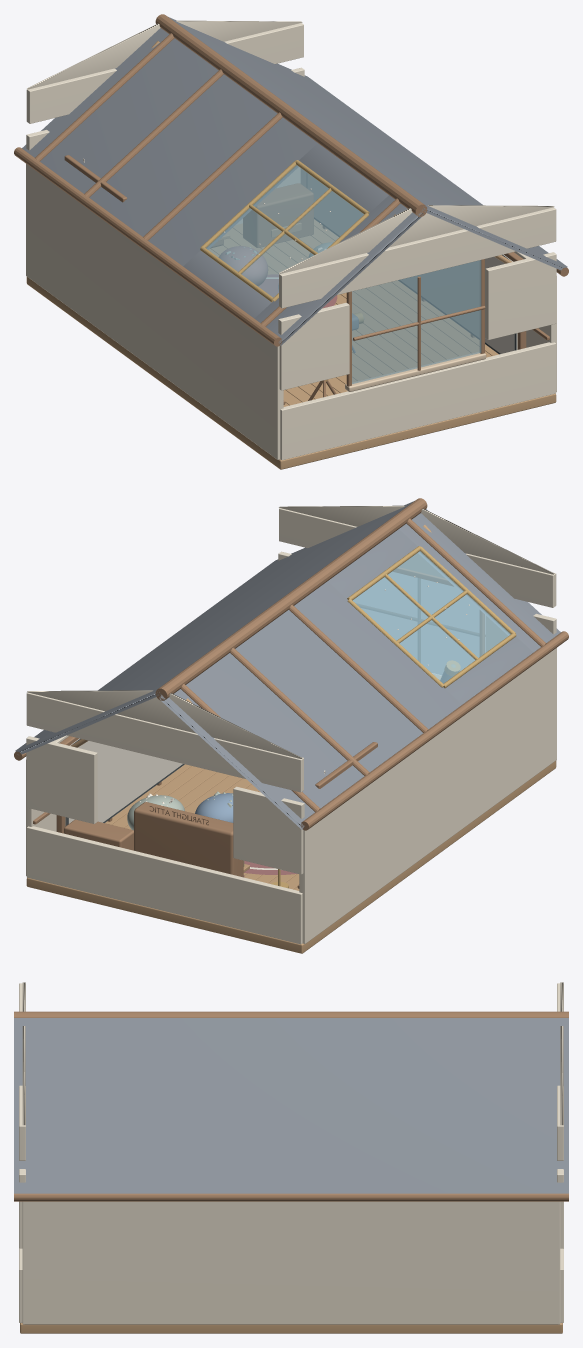
File: starlight_attic.glb
The picture shows the model from 3 angles, top to bottom: view 1: azimuth 30°, elevation 25°; view 2: azimuth 150°, elevation 25°; view 3: azimuth 270°, elevation 25°; orthographic projection. The views are drawn at different scales.
Parts seen in each view (by area): view 1: ROOF · left slate rear, WALL · plaster long side -1, WALL · end low plinth -6.64, WINDOW · rear glazed opening, ROOF · right slate plane, SKYLIGHT · transparent panes, WALL · end top lintel -6.64, CINEMA · lit fabric panel, WALL · end opening pier (-6.64, 3.15), WALL · end opening pier (-6.64, -3.15), STRUCTURE · floor subdeck, ROOF · ancient ridge beam (+23 smaller); view 2: ROOF · left slate rear, WALL · plaster long side -1, WALL · end low plinth 6.64, ROOF · right slate plane, SKYLIGHT · transparent panes, WALL · end top lintel 6.64, WINDOW · rear glazed opening, BOOKCASE · carved frame, WALL · end opening pier (6.64, 3.15), WALL · end opening pier (6.64, -3.15), STRUCTURE · floor subdeck, WALL · end top lintel -6.64 (+17 smaller); view 3: ROOF · right slate plane, WALL · plaster long side 1, ROOF · eave beam 1, STRUCTURE · floor subdeck, ROOF · ancient ridge beam, WALL · end top lintel -6.64, WALL · end top lintel 6.64, FLOOR · individual oak plank 21, GABLE · end triangular infill 6.64, GABLE · end triangular infill -6.64.
Part boxes in pixels (box(x1,y1,x2,y2)): ROOF · left slate rear: box(22, 28, 317, 266); WALL · plaster long side -1: box(26, 164, 283, 459); WALL · end low plinth -6.64: box(280, 342, 556, 460); WINDOW · rear glazed opening: box(352, 260, 481, 383); ROOF · right slate plane: box(168, 17, 567, 270); SKYLIGHT · transparent panes: box(206, 165, 363, 297); WALL · end top lintel -6.64: box(279, 207, 556, 308); CINEMA · lit fabric panel: box(307, 173, 514, 353); WALL · end opening pier (-6.64, 3.15): box(485, 252, 556, 339); WALL · end opening pier (-6.64, -3.15): box(278, 302, 349, 390); STRUCTURE · floor subdeck: box(26, 276, 556, 469); ROOF · ancient ridge beam: box(155, 14, 427, 216); ROOF · left slate rear: box(159, 581, 462, 829); WALL · plaster long side -1: box(299, 648, 556, 943); WALL · end low plinth 6.64: box(26, 826, 302, 944); ROOF · right slate plane: box(15, 501, 414, 755); SKYLIGHT · transparent panes: box(352, 551, 510, 683); WALL · end top lintel 6.64: box(26, 692, 303, 792); WINDOW · rear glazed opening: box(353, 572, 478, 674); BOOKCASE · carved frame: box(134, 802, 243, 877); WALL · end opening pier (6.64, 3.15): box(26, 736, 97, 823); WALL · end opening pier (6.64, -3.15): box(233, 786, 304, 874); STRUCTURE · floor subdeck: box(26, 760, 556, 953); WALL · end top lintel -6.64: box(279, 508, 556, 607); ROOF · right slate plane: box(14, 1018, 568, 1193); WALL · plaster long side 1: box(22, 1201, 560, 1324); ROOF · eave beam 1: box(14, 1193, 568, 1201); STRUCTURE · floor subdeck: box(20, 1323, 562, 1333); ROOF · ancient ridge beam: box(14, 1011, 568, 1017); WALL · end top lintel -6.64: box(19, 983, 25, 1160); WALL · end top lintel 6.64: box(557, 983, 563, 1160); FLOOR · individual oak plank 21: box(25, 1324, 557, 1324); GABLE · end triangular infill 6.64: box(560, 982, 563, 1125); GABLE · end triangular infill -6.64: box(22, 982, 25, 1125).
Bounding box in the file's own units: 8.97 × 6.81 × 13.7.
